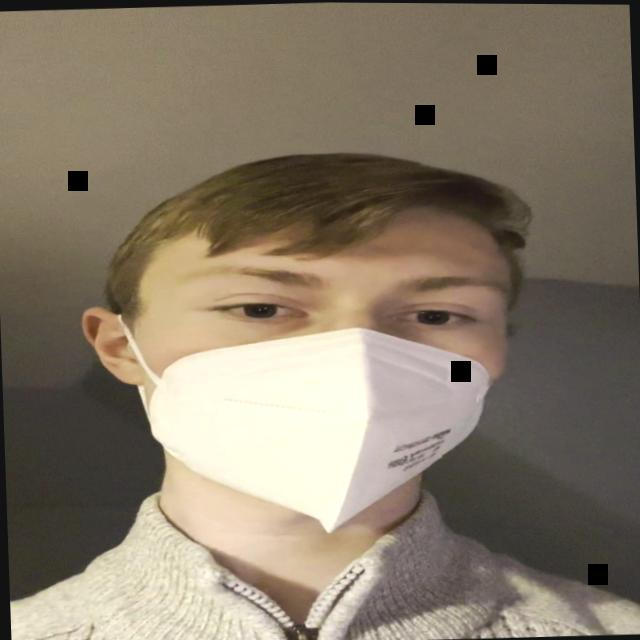Mask: (120, 191, 526, 539)
